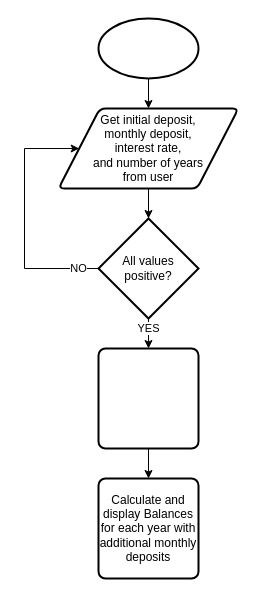
This 257x596 diagram has some shape labels left out. The centre of each missing label's shape, as x and y in pixels:
"Calculate and display Balances for each year without additional monthly deposits" belongs at (148,398).
"Start" belongs at (148,48).
